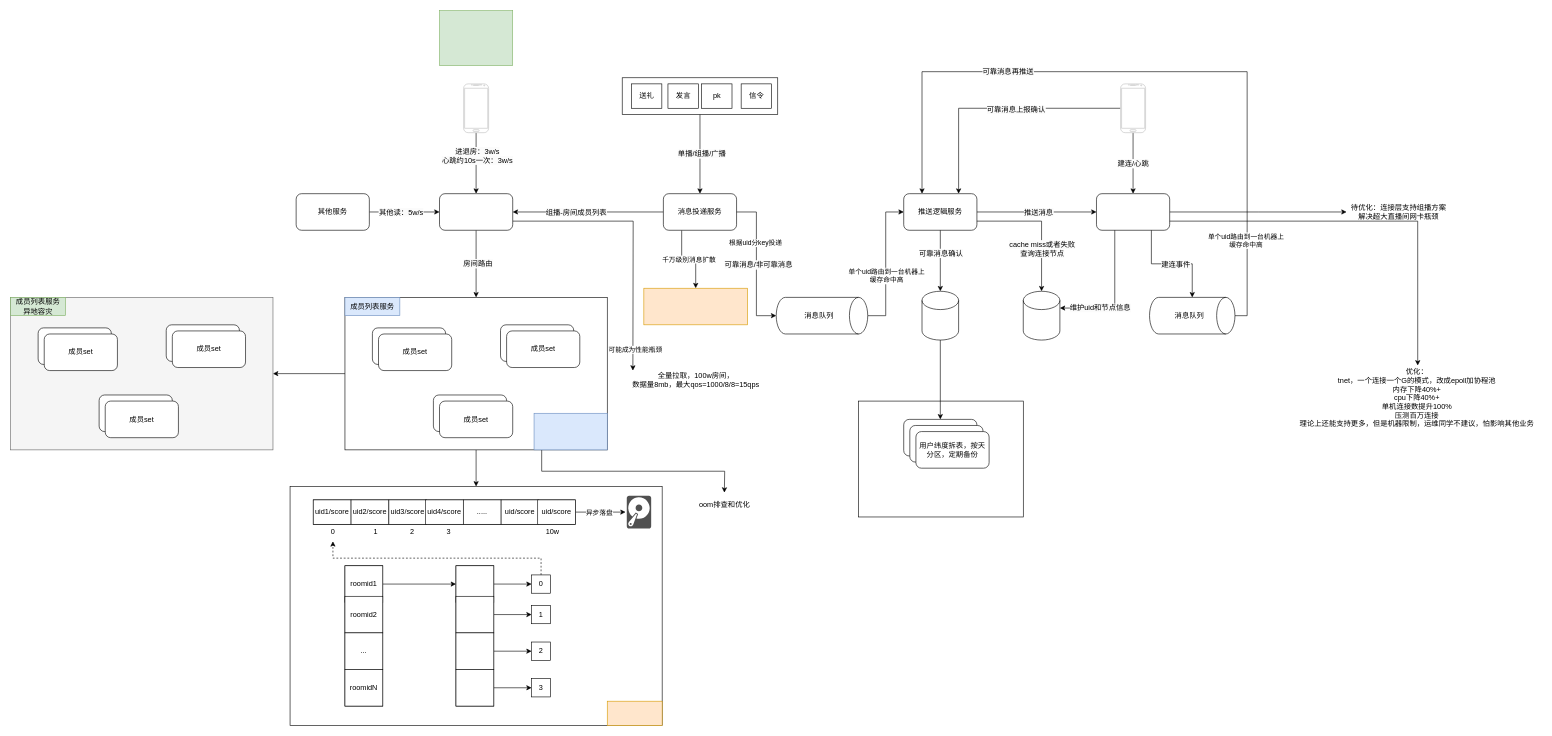
Image size: 1552x736. Some labels were removed from this diagram. The box of each missing label's shape, as (x1, y1, x2, y2) in pixels:
1.房间消息合并 2.消息分级，消息丢弃 3.超大房间限流，降级丢弃: (643, 288, 748, 325)
mysql: (921, 291, 959, 340)
PCU：30w DAU：420w 单房间最大：10w 同时开播：6k 日活主播：4w: (439, 10, 513, 66)
redis: (1023, 291, 1060, 340)
uid1: (455, 565, 494, 602)
uid2: (455, 596, 494, 633)
uid3: (455, 632, 494, 669)
uid4: (455, 669, 494, 706)
单房间最多10w用户 单机 2w/s写 1.5w/s读: (533, 413, 607, 450)
存储设计: (607, 701, 662, 726)
房间成员逻辑服务: (439, 193, 513, 230)
连接管理服务: (1096, 193, 1170, 230)
